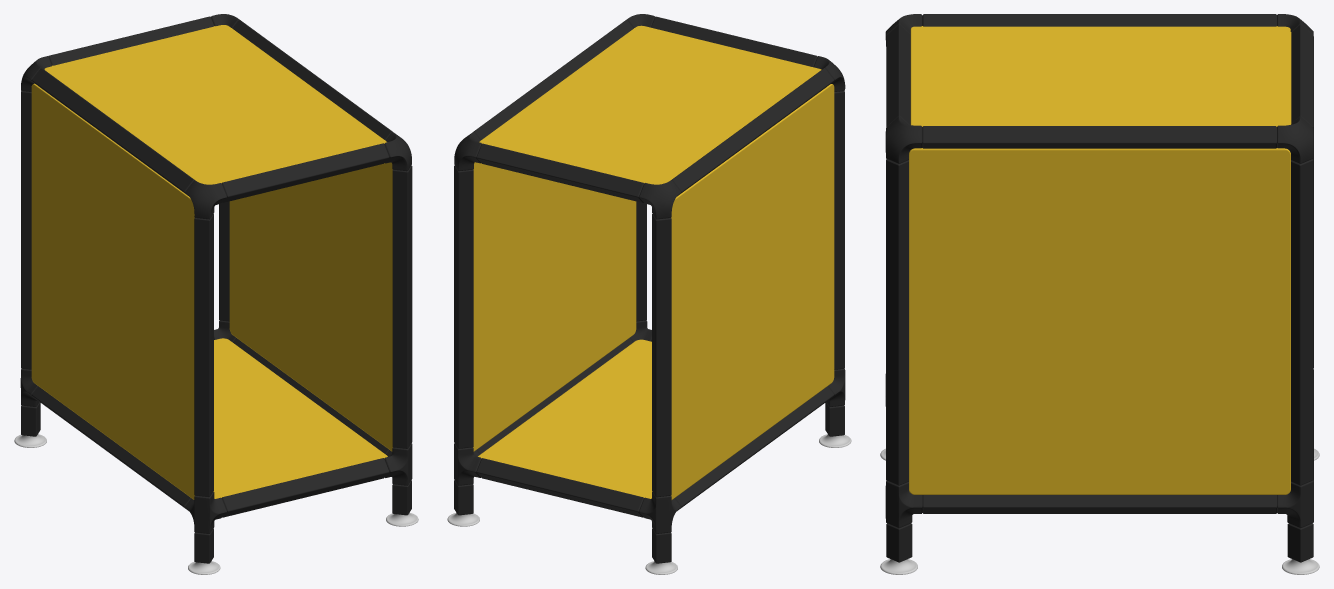
3 renders of one model, left to right at view 1: azimuth 30°, elevation 25°; view 2: azimuth 150°, elevation 25°; view 3: azimuth 270°, elevation 25°, orthographic. The views are drawn at different scales.
Visible parts, largest first — view 1: 229x374x374; view 2: 229x374x374; view 3: 229x374x374.
Boxes of the visible parts, bbox=[...] form: 229x374x374: bbox=[14, 14, 418, 574]; 229x374x374: bbox=[447, 14, 851, 574]; 229x374x374: bbox=[880, 14, 1319, 574].
Size of the model in its own units: 0.3189 by 0.5133 by 0.4632.
